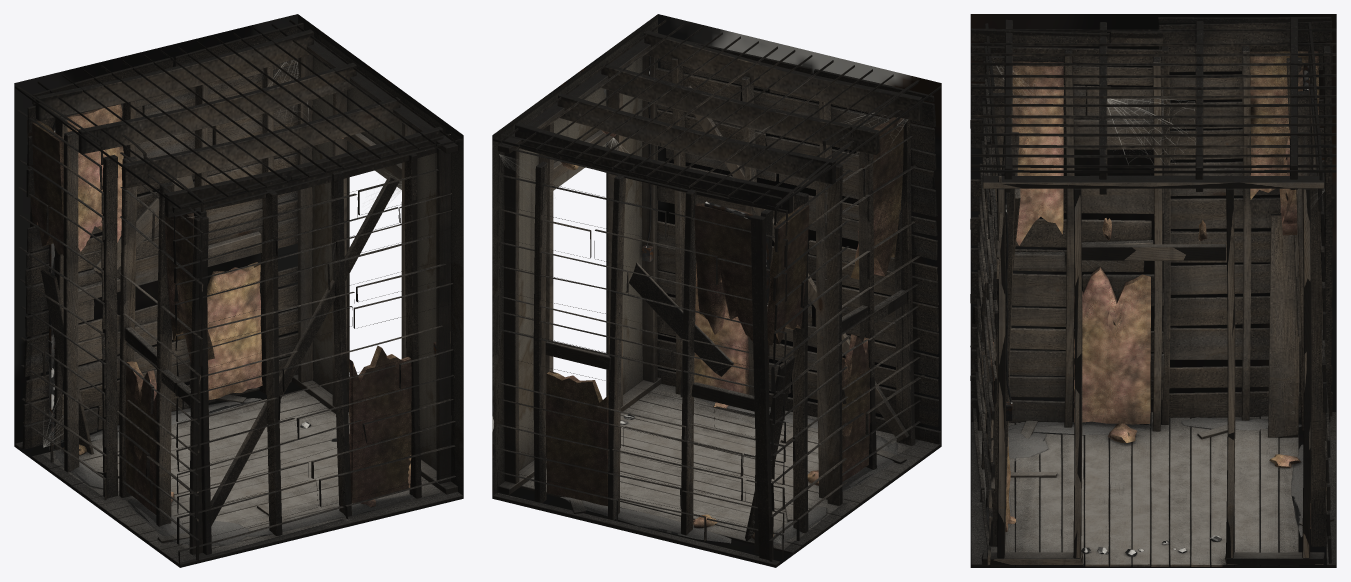
The model's file is weak_spot_cavity.glb.
The picture shows the model from 3 angles, left to right: view 1: azimuth 30°, elevation 25°; view 2: azimuth 150°, elevation 25°; view 3: azimuth 270°, elevation 25°; orthographic projection. The views are drawn at different scales.
Visible parts, largest first — view 1: Cavity; view 2: Cavity; view 3: Cavity.
Boxes of the visible parts, box(x1,y1,x2,y2) form: Cavity: box(14, 14, 463, 567); Cavity: box(492, 14, 941, 567); Cavity: box(970, 14, 1336, 567).
Bounding box in the file's own units: 2.39 × 2.9 × 2.4.
Materials: 6 (6 with a texture image).
